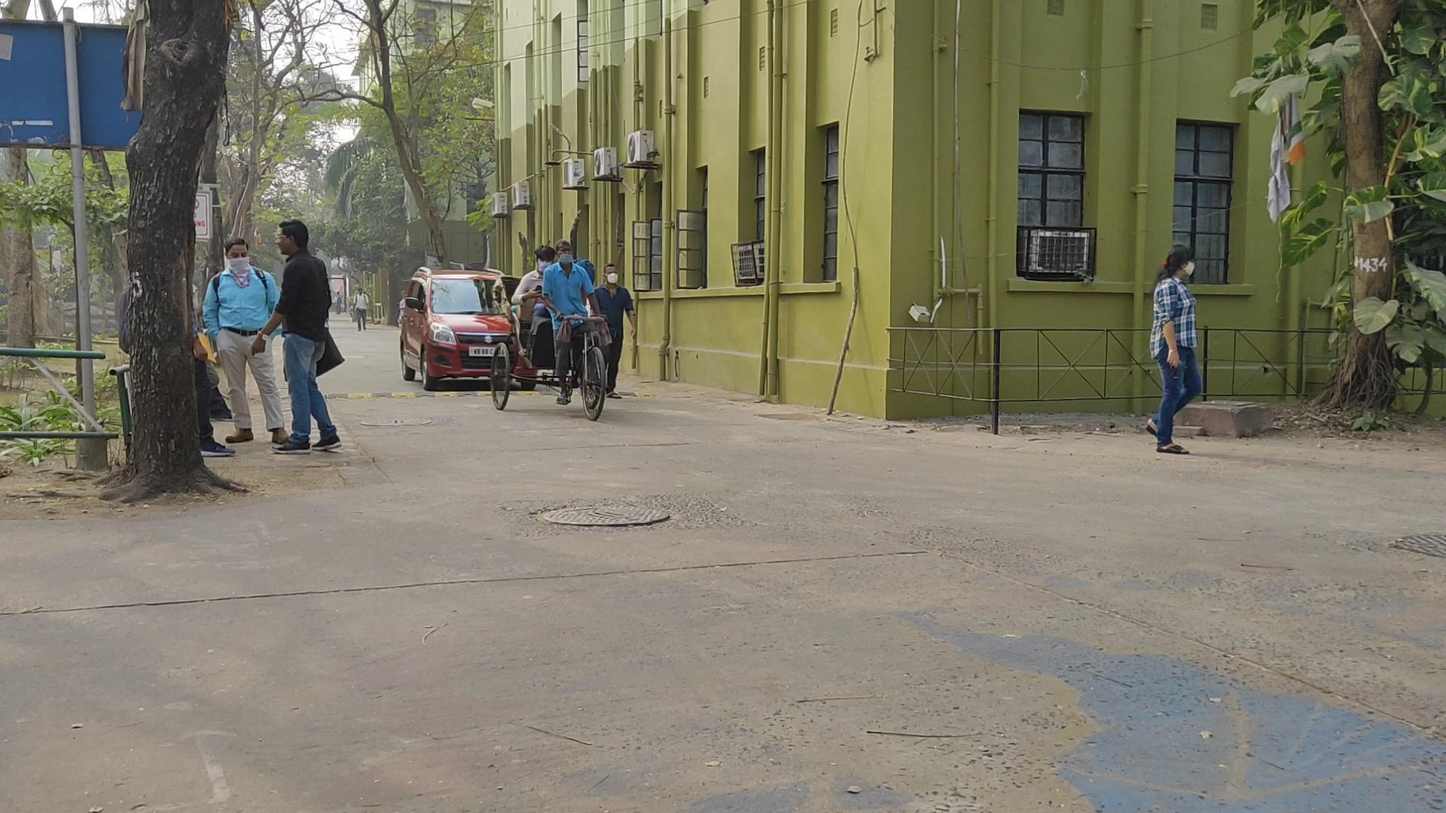car: (399, 266, 505, 389)
